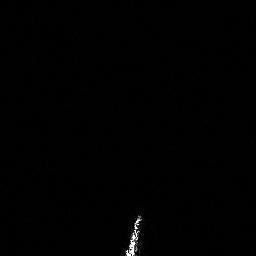ship: (119, 208, 146, 256)
